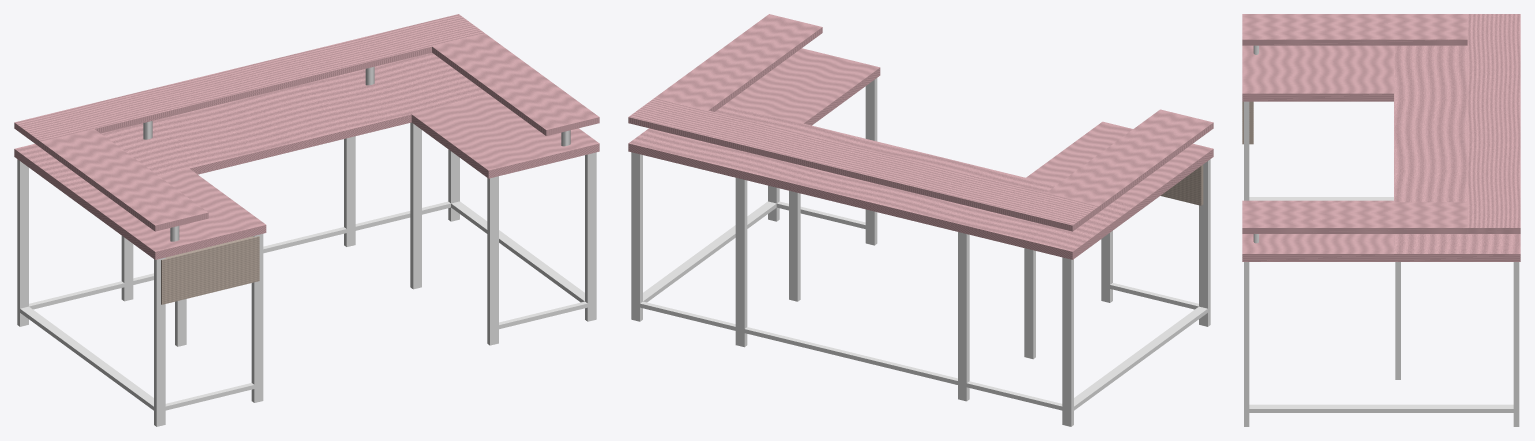
3 views of the same model, side by side, from view 1: azimuth 30°, elevation 25°; view 2: azimuth 150°, elevation 25°; view 3: azimuth 270°, elevation 25° (orthographic).
Visible parts, largest first — view 1: 1 back_desktop, 4 back_monitor_stand, 3 right_wing_desktop, 6 right_monitor_stand, 5 left_monitor_stand, 2 left_wing_desktop, 26 side_storage_bag, 21 stretcher_back, 17 leg_front_right_inner, 18 leg_front_right_outer, 20 leg_inner_corner_right, 11 leg_back_left (+10 smaller); view 2: 1 back_desktop, 4 back_monitor_stand, 5 left_monitor_stand, 6 right_monitor_stand, 3 right_wing_desktop, 2 left_wing_desktop, 21 stretcher_back, 13 leg_back_mid_right, 11 leg_back_left, 12 leg_back_mid_left, 14 leg_back_right, 22 stretcher_left_outer (+9 smaller); view 3: 1 back_desktop, 4 back_monitor_stand, 2 left_wing_desktop, 5 left_monitor_stand, 6 right_monitor_stand, 3 right_wing_desktop, 23 stretcher_right_outer, 14 leg_back_right, 18 leg_front_right_outer, 20 leg_inner_corner_right, 16 leg_front_left_inner, 22 stretcher_left_outer (+1 smaller).
Part boxes in pixels (bbox=[...]): 1 back_desktop: bbox=[14, 53, 489, 203]; 4 back_monitor_stand: bbox=[14, 14, 484, 147]; 3 right_wing_desktop: bbox=[411, 95, 599, 178]; 6 right_monitor_stand: bbox=[432, 33, 599, 135]; 5 left_monitor_stand: bbox=[41, 129, 208, 231]; 2 left_wing_desktop: bbox=[78, 168, 266, 259]; 26 side_storage_bag: bbox=[161, 236, 259, 304]; 21 stretcher_back: bbox=[29, 201, 450, 309]; 17 leg_front_right_inner: bbox=[487, 176, 498, 345]; 18 leg_front_right_outer: bbox=[585, 152, 596, 321]; 20 leg_inner_corner_right: bbox=[410, 122, 421, 289]; 11 leg_back_left: bbox=[17, 159, 28, 326]; 1 back_desktop: bbox=[628, 104, 1136, 259]; 4 back_monitor_stand: bbox=[628, 97, 1099, 231]; 5 left_monitor_stand: bbox=[1046, 109, 1213, 211]; 6 right_monitor_stand: bbox=[655, 14, 822, 111]; 3 right_wing_desktop: bbox=[725, 48, 880, 125]; 2 left_wing_desktop: bbox=[1026, 121, 1213, 212]; 21 stretcher_back: bbox=[635, 301, 1066, 411]; 13 leg_back_mid_right: bbox=[735, 178, 747, 347]; 11 leg_back_left: bbox=[1062, 257, 1073, 426]; 12 leg_back_mid_left: bbox=[958, 232, 969, 401]; 14 leg_back_right: bbox=[631, 152, 642, 321]; 22 stretcher_left_outer: bbox=[1074, 306, 1207, 410]; 1 back_desktop: bbox=[1394, 45, 1520, 261]; 4 back_monitor_stand: bbox=[1467, 14, 1520, 233]; 2 left_wing_desktop: bbox=[1242, 45, 1393, 101]; 5 left_monitor_stand: bbox=[1242, 14, 1467, 45]; 6 right_monitor_stand: bbox=[1242, 202, 1467, 233]; 3 right_wing_desktop: bbox=[1242, 200, 1393, 261]; 23 stretcher_right_outer: bbox=[1249, 404, 1514, 412]; 14 leg_back_right: bbox=[1513, 262, 1519, 426]; 18 leg_front_right_outer: bbox=[1244, 262, 1249, 426]; 20 leg_inner_corner_right: bbox=[1395, 262, 1400, 379]; 16 leg_front_left_inner: bbox=[1244, 101, 1249, 200]; 22 stretcher_left_outer: bbox=[1249, 197, 1393, 200].
Bounding box in the file's own units: 2.3 × 1 × 1.26.
Materials: 3 (2 with a texture image).
